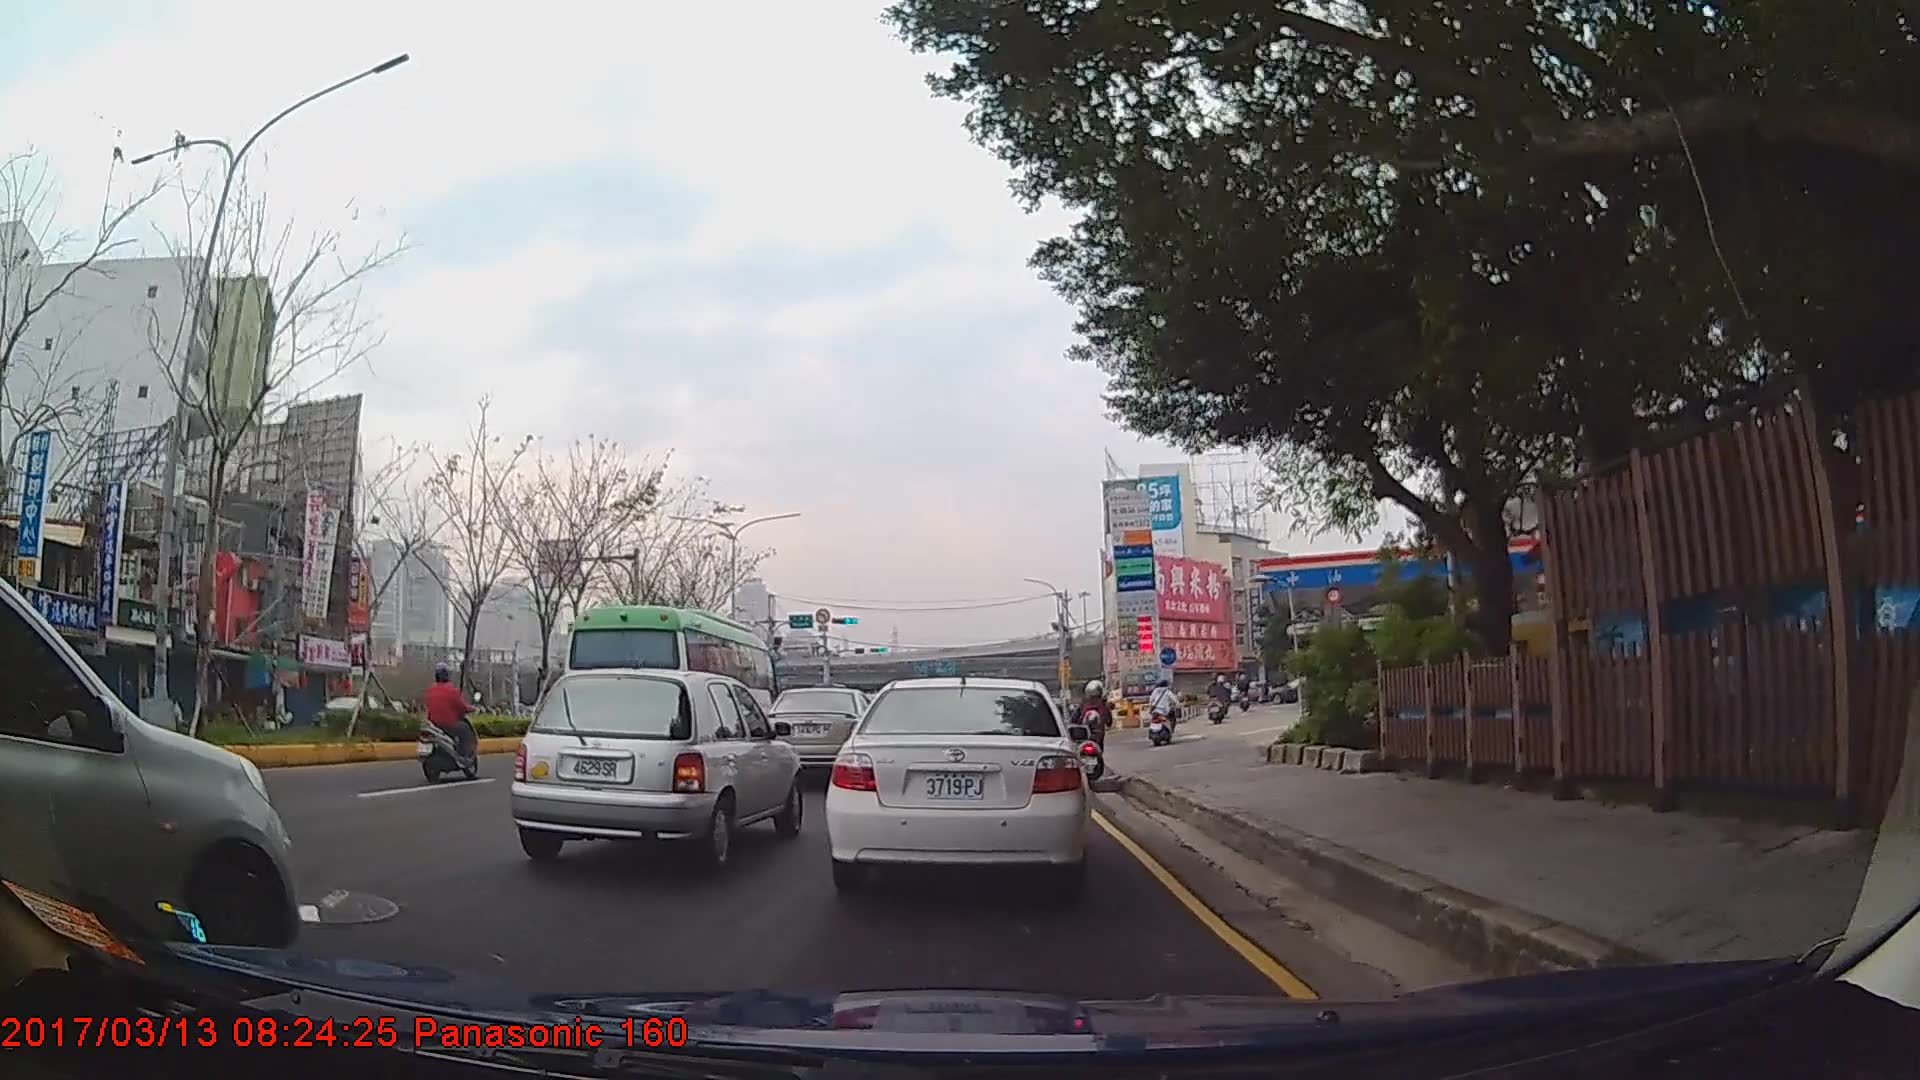rider: (416, 661, 484, 786), (1074, 678, 1116, 781), (1150, 673, 1178, 743), (1208, 670, 1228, 723)
vehicle: (0, 576, 299, 980), (507, 666, 804, 868), (828, 673, 1092, 891), (558, 600, 781, 781), (762, 684, 882, 776)
